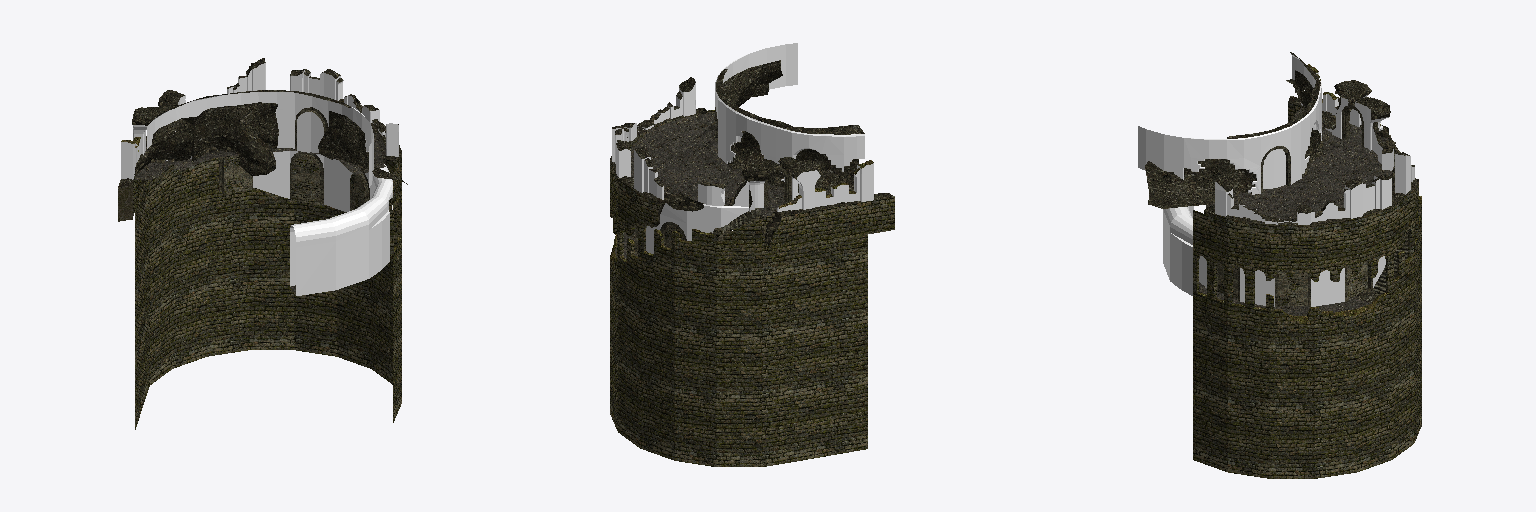
3 renders of one model, left to right at view 1: azimuth 30°, elevation 25°; view 2: azimuth 150°, elevation 25°; view 3: azimuth 270°, elevation 25°, orthographic.
Parts seen in each view (by area): view 1: mesh7, mesh3, mesh10, mesh19, mesh6, mesh1, mesh9, mesh8, mesh4, mesh15; view 2: mesh7, mesh3, mesh1, mesh10, mesh15, mesh9, mesh8, mesh2; view 3: mesh7, mesh3, mesh15, mesh1, mesh10, mesh9, mesh6, mesh8, mesh2, mesh4.
Boxes of the visible parts, <box> form: mesh7: <box>133,128,401,429</box>; mesh3: <box>121,75,398,289</box>; mesh10: <box>118,58,407,188</box>; mesh19: <box>290,219,335,295</box>; mesh6: <box>224,155,364,210</box>; mesh1: <box>135,131,385,180</box>; mesh9: <box>147,90,401,172</box>; mesh8: <box>121,63,398,158</box>; mesh4: <box>219,107,369,204</box>; mesh15: <box>214,158,401,269</box>; mesh7: <box>610,110,894,466</box>; mesh3: <box>612,43,873,253</box>; mesh1: <box>615,113,788,252</box>; mesh10: <box>612,60,894,249</box>; mesh15: <box>610,205,771,272</box>; mesh9: <box>610,69,864,248</box>; mesh8: <box>612,81,873,210</box>; mesh2: <box>610,160,873,263</box>; mesh7: <box>1193,102,1421,478</box>; mesh3: <box>1138,56,1414,306</box>; mesh15: <box>1193,190,1421,325</box>; mesh1: <box>1199,107,1393,315</box>; mesh10: <box>1145,70,1418,222</box>; mesh9: <box>1184,52,1414,302</box>; mesh6: <box>1218,262,1367,305</box>; mesh8: <box>1215,72,1414,218</box>; mesh2: <box>1198,64,1421,322</box>; mesh4: <box>1217,146,1372,306</box>.
Size of the model in its own units: 22.65 by 25.78 by 21.
21 materials, 11 textured.